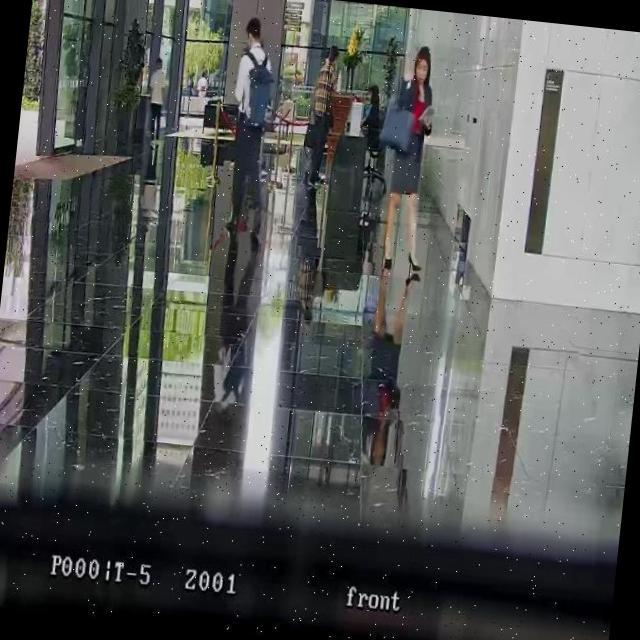person: (375, 42, 445, 284), (219, 15, 288, 245), (301, 42, 342, 190), (142, 57, 172, 145), (358, 84, 386, 154), (197, 70, 210, 97), (186, 71, 197, 96)
